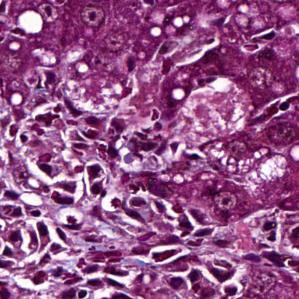ballooning: (174, 75, 252, 145)
